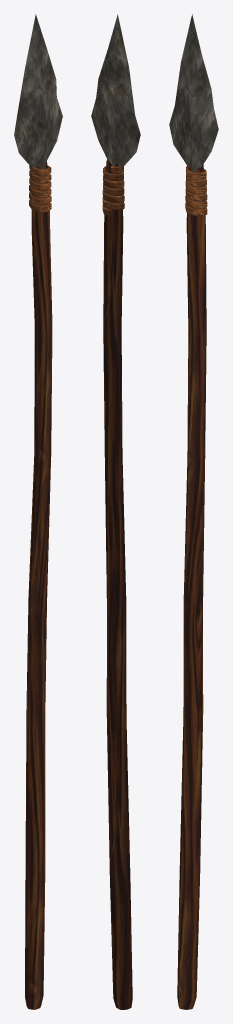
Rendered from Lanca_Rustica.glb.
The picture shows the model from 3 angles, left to right: view 1: azimuth 30°, elevation 25°; view 2: azimuth 150°, elevation 25°; view 3: azimuth 330°, elevation 25°; orthographic projection.
Parts seen in each view (by area): view 1: Haste de madeira, Ponta de pedra lascada, Amarra de couro; view 2: Haste de madeira, Ponta de pedra lascada, Amarra de couro; view 3: Haste de madeira, Ponta de pedra lascada, Amarra de couro.
Boxes of the visible parts, x1,y1,x2,y2 form: Haste de madeira: [25, 162, 52, 1009]; Ponta de pedra lascada: [14, 14, 62, 176]; Amarra de couro: [29, 165, 51, 212]; Haste de madeira: [103, 159, 132, 1009]; Ponta de pedra lascada: [91, 14, 140, 173]; Amarra de couro: [102, 166, 124, 216]; Haste de madeira: [177, 164, 206, 1009]; Ponta de pedra lascada: [169, 14, 218, 172]; Amarra de couro: [185, 165, 207, 215].
Size of the model in its own units: 0.099 by 1.91 by 0.042.
Materials: 3 (3 with a texture image).
